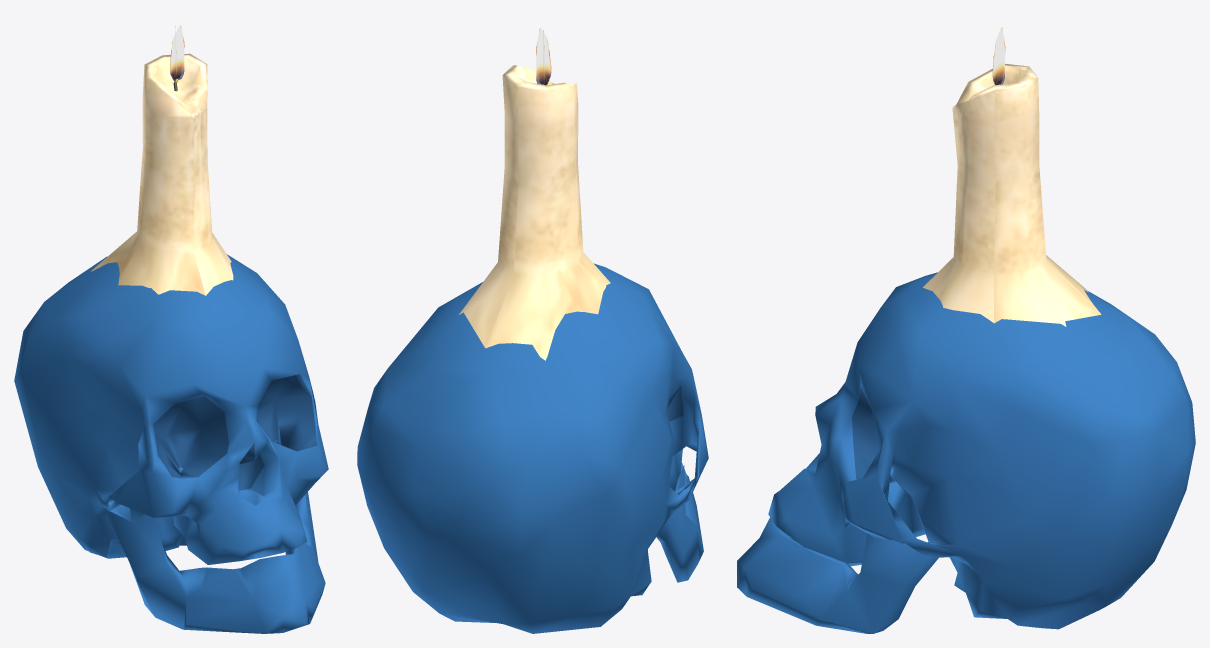
The model's file is CandleSkullShapeA.007.glb.
3 views of the same model, side by side, from view 1: azimuth 30°, elevation 25°; view 2: azimuth 150°, elevation 25°; view 3: azimuth 270°, elevation 25° (orthographic). The views are drawn at different scales.
Visible parts, largest first — view 1: CandleSkullShapeA.007; view 2: CandleSkullShapeA.007; view 3: CandleSkullShapeA.007.
Part boxes in pixels (x1=…): CandleSkullShapeA.007: x1=14, y1=25, x2=328, y2=633; CandleSkullShapeA.007: x1=357, y1=28, x2=708, y2=633; CandleSkullShapeA.007: x1=737, y1=27, x2=1195, y2=633.
Bounding box in the file's own units: 0.2005 × 0.4386 × 0.3132.
2 materials, 2 textured.
